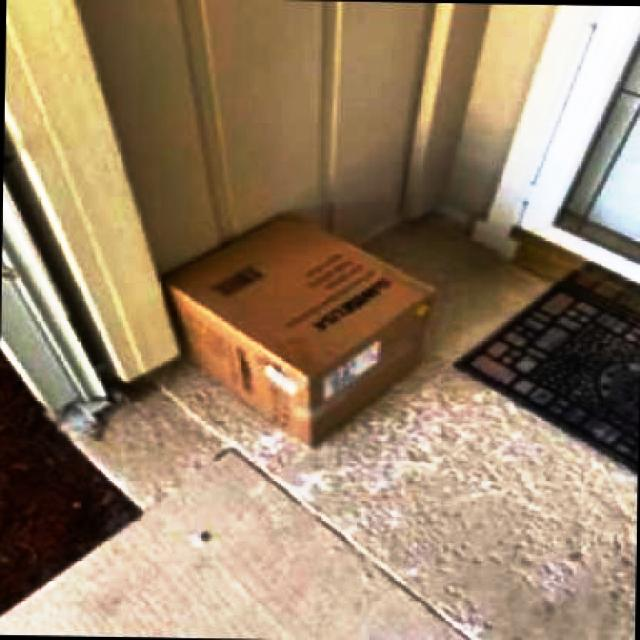Box: (158, 206, 434, 451)
